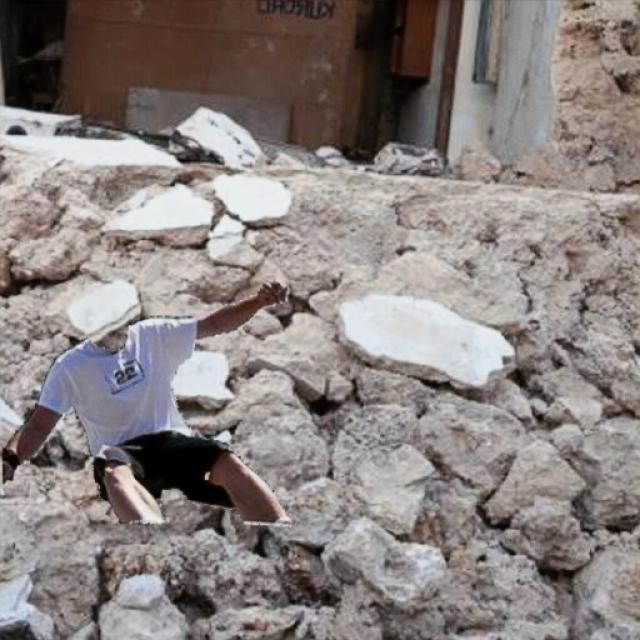Person in Rubble: (2, 280, 292, 526)
